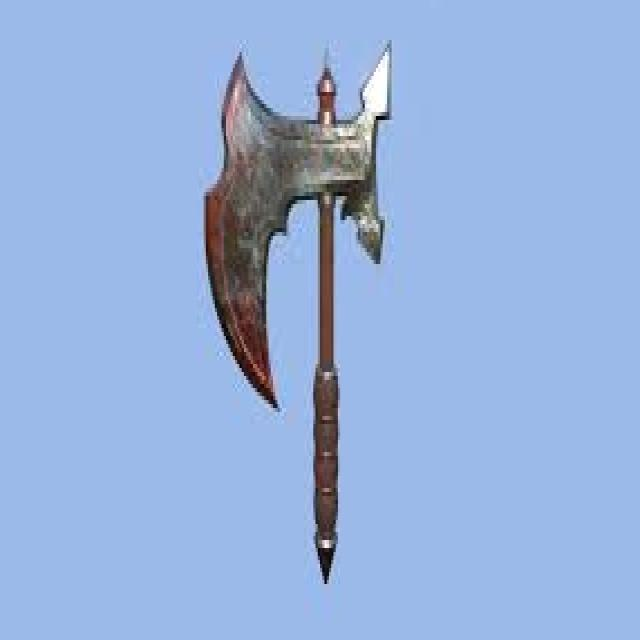Gun: (193, 14, 394, 598)
